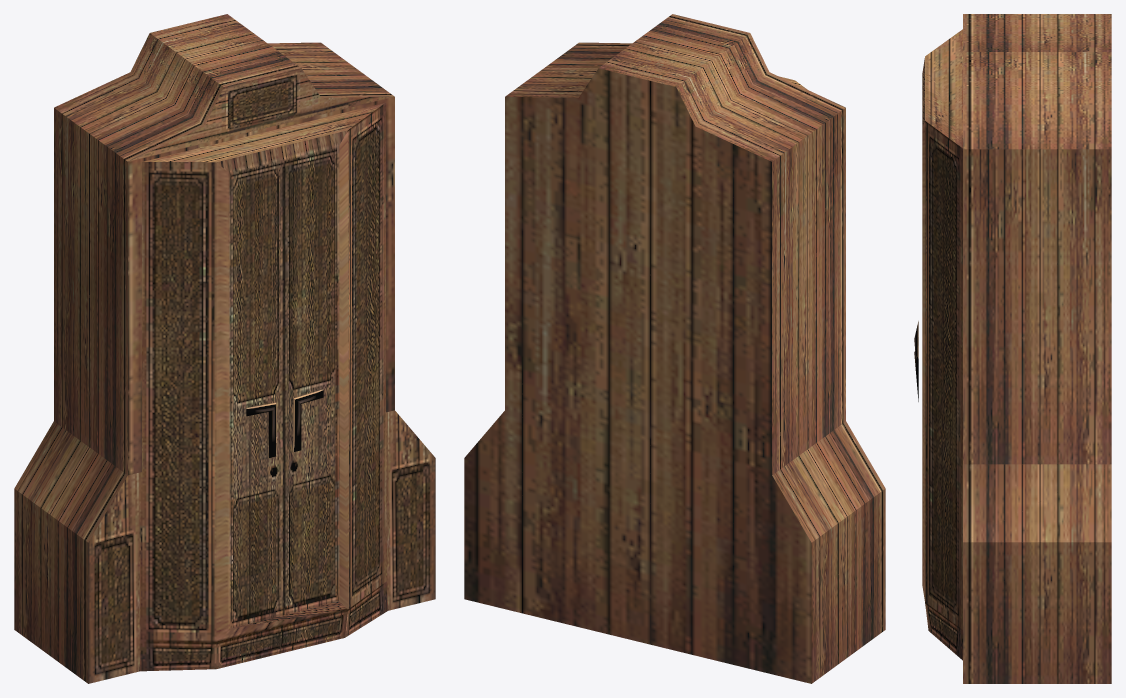
File: frn_all_eleg_armoire_s02_l1.fbx
The picture shows the model from 3 angles, left to right: view 1: azimuth 30°, elevation 25°; view 2: azimuth 150°, elevation 25°; view 3: azimuth 270°, elevation 25°; orthographic projection.
Visible parts, largest first — view 1: mesh_node; view 2: mesh_node; view 3: mesh_node.
Boxes of the visible parts, <box> form: mesh_node: <box>14,14,435,683</box>; mesh_node: <box>464,14,885,683</box>; mesh_node: <box>914,14,1111,683</box>.
Size of the model in its own units: 1.16 by 1.8 by 0.5692.
